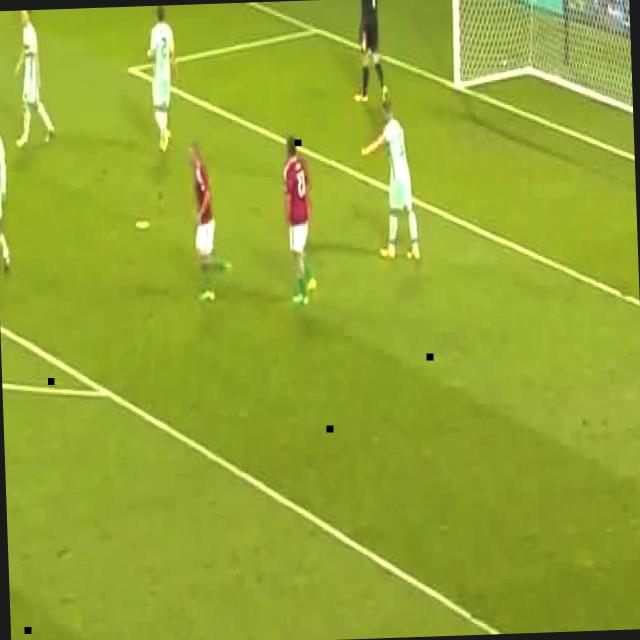player-white: (360, 100, 419, 260), (188, 143, 232, 303), (12, 9, 55, 147), (283, 132, 317, 306), (146, 5, 180, 154), (351, 0, 386, 104), (0, 108, 14, 272)
